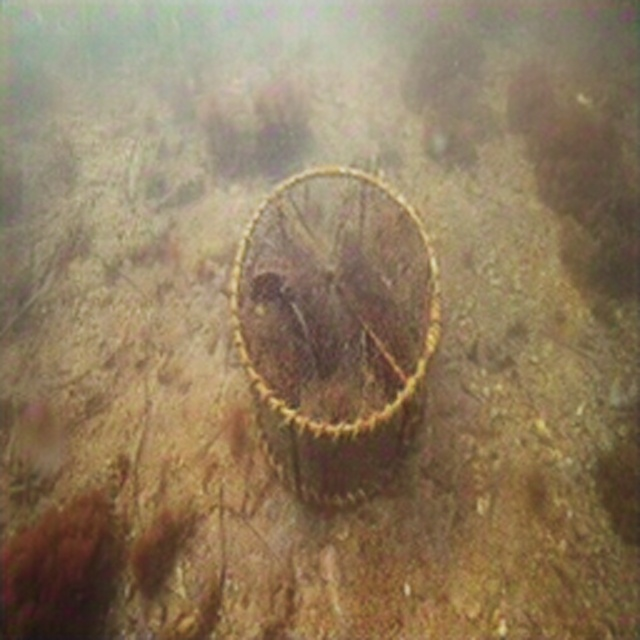mine: (229, 164, 442, 509)
